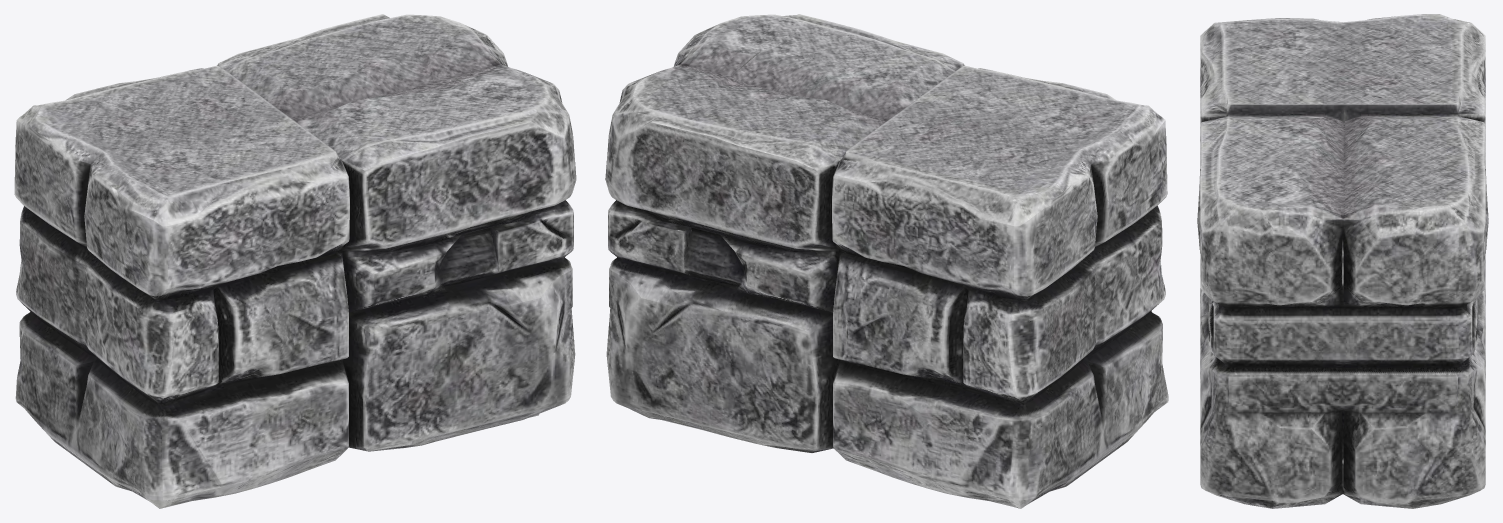
Rendered from block_weathered.glb.
3 views of the same model, side by side, from view 1: azimuth 30°, elevation 25°; view 2: azimuth 150°, elevation 25°; view 3: azimuth 270°, elevation 25° (orthographic). The views are drawn at different scales.
Size of the model in its own units: 1.91 by 1.26 by 1.12.
1 material, 1 textured.
